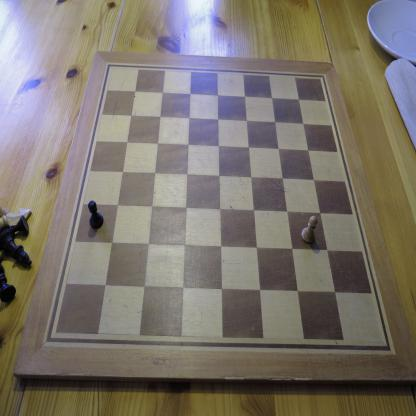black-bishop: (0, 228, 33, 268)
black-pawn: (87, 200, 104, 229)
white-knight: (0, 207, 33, 230)
white-pawn: (301, 215, 318, 244)
